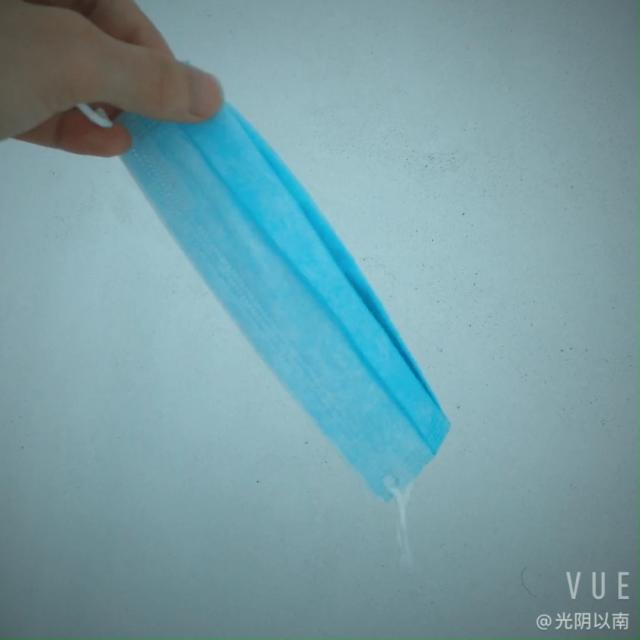face mask: (119, 44, 458, 522)
